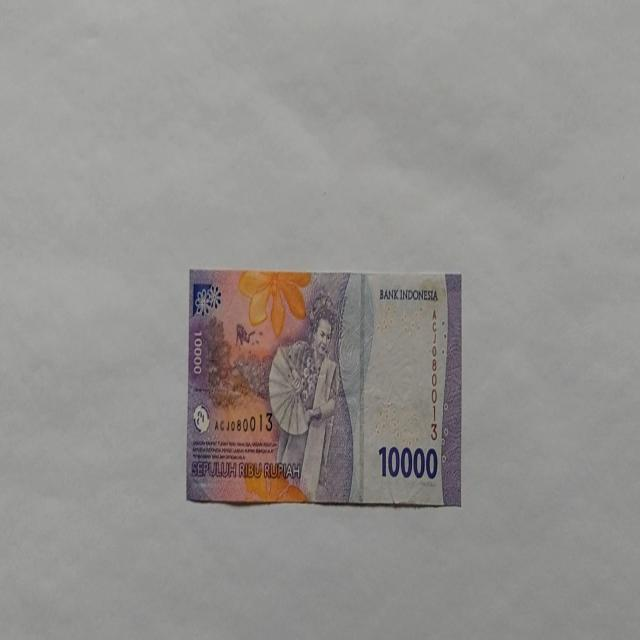sepuluh ribu rupiah: (186, 266, 462, 508)
